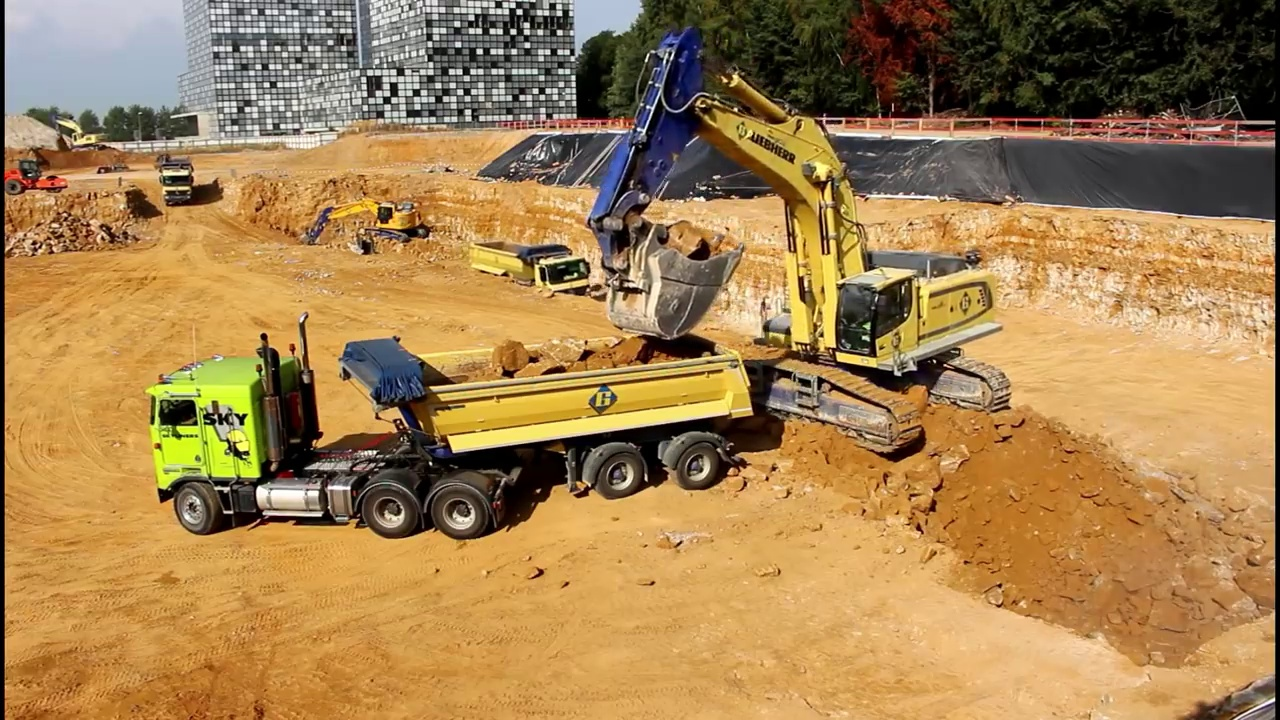compactor: (4, 157, 71, 202)
excavator: (580, 21, 1019, 462), (299, 193, 429, 258), (47, 112, 111, 155)
truck: (140, 307, 763, 544), (464, 230, 598, 316), (153, 152, 199, 210)
